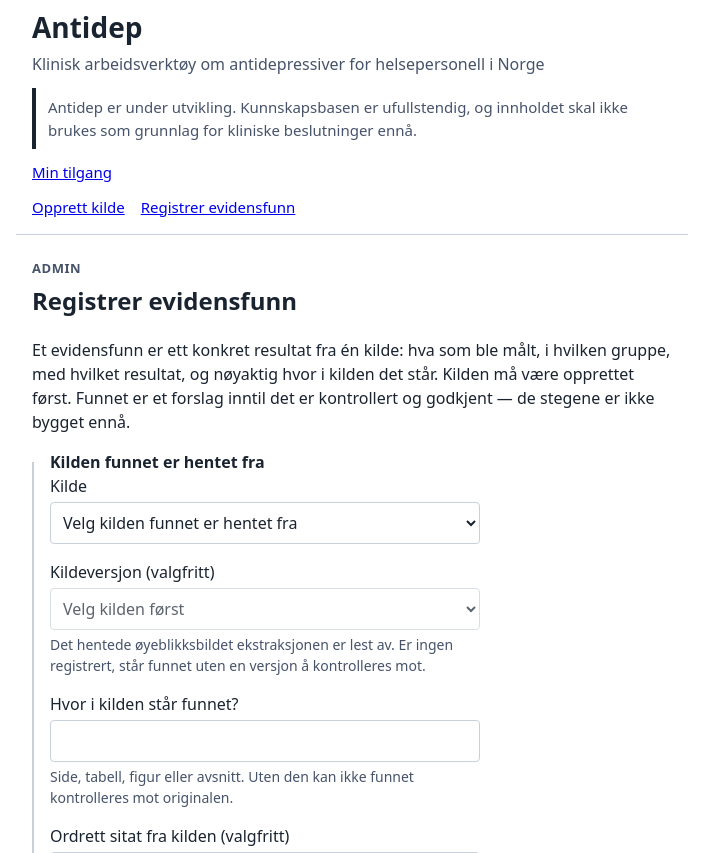
Test case: kildeversjonene må ha svart før funnet kan registreres › sier «ingen registrert kildeversjon» bare når kilden faktisk ikke har noen
Select "Testkilde B: vektendring ved tolv uker — Testforfatter m.fl. — 2021" in the dropdown labelled "Kilde" at point(265, 523), box [50,502,480,544]
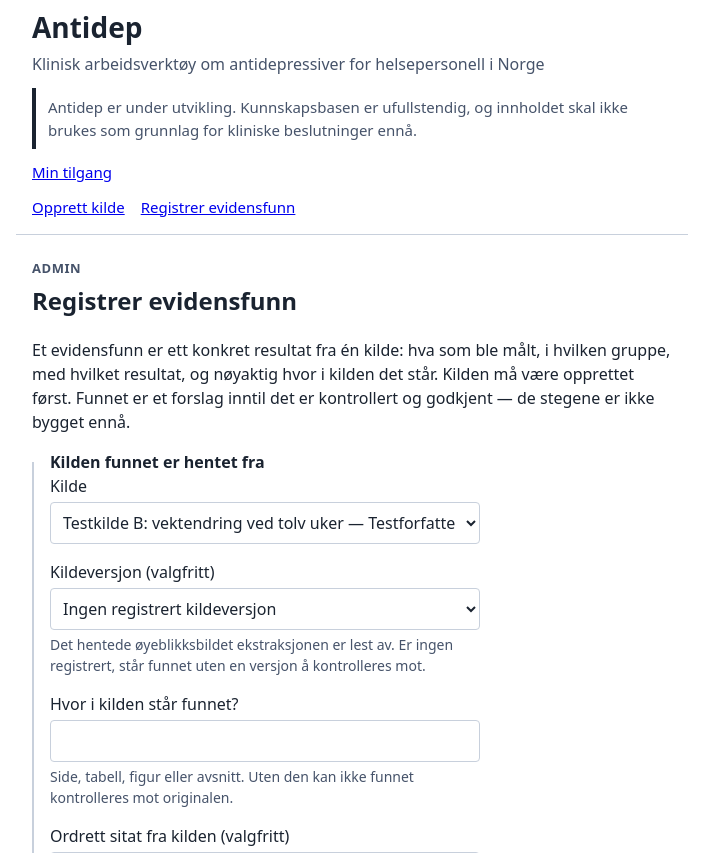
Result: the dropdown labelled "Kildeversjon (valgfritt)" shows "Ingen registrert kildeversjon" at [50,588,480,630]
Result: the dropdown labelled "Kildeversjon (valgfritt)" is enabled at [50,588,480,630]
